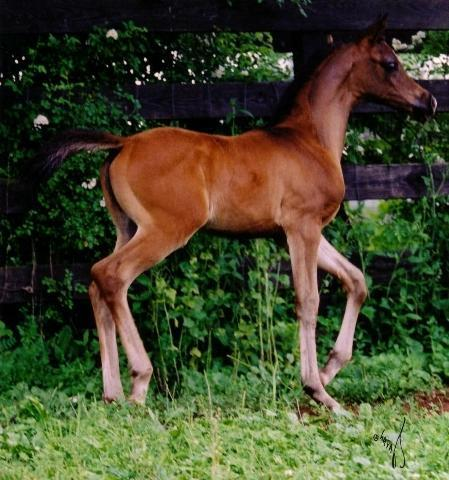horse: (27, 11, 438, 418)
